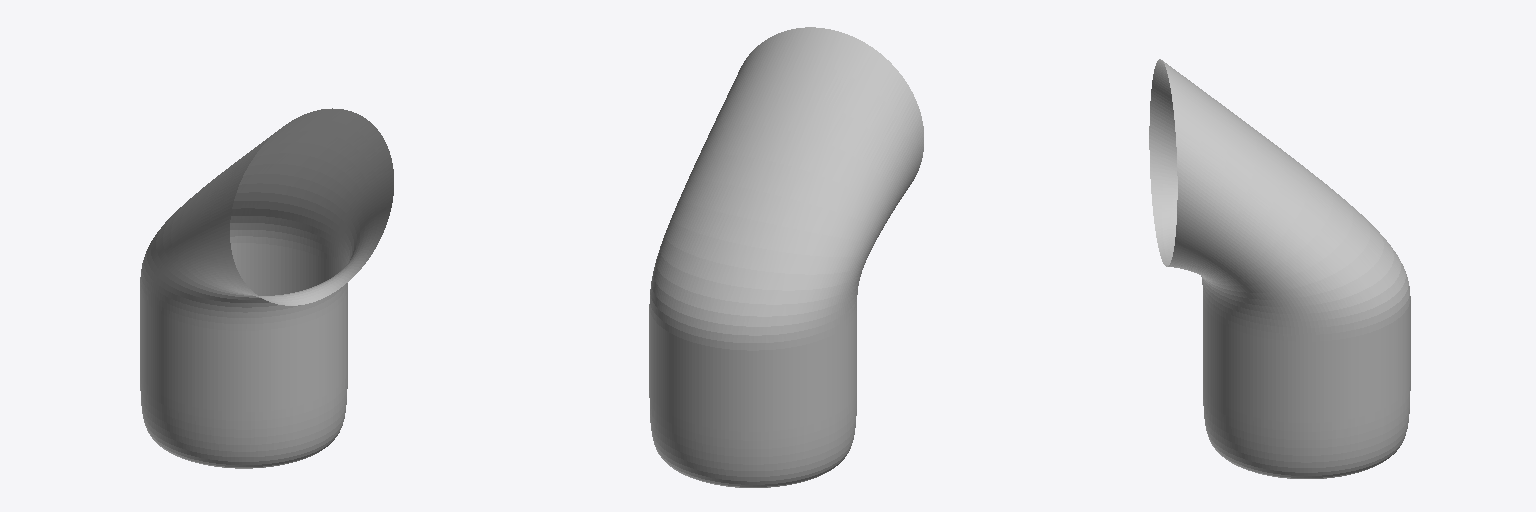
The model's file is outpipe_uv.obj.
3 renders of one model, left to right at view 1: azimuth 30°, elevation 25°; view 2: azimuth 150°, elevation 25°; view 3: azimuth 270°, elevation 25°, orthographic.
Parts seen in each view (by area): view 1: RoofOutPipe MainBuilding; view 2: RoofOutPipe MainBuilding; view 3: RoofOutPipe MainBuilding.
Boxes of the visible parts, box(x1,y1,x2,y2) form: RoofOutPipe MainBuilding: box(140, 108, 393, 468); RoofOutPipe MainBuilding: box(649, 27, 923, 487); RoofOutPipe MainBuilding: box(1149, 59, 1410, 478).
Bounding box in the file's own units: 1.6 × 3.11 × 1.98.